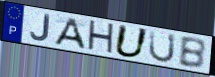A: (53, 17, 87, 51)
B: (177, 36, 207, 70)
H: (86, 19, 116, 57)
J: (29, 13, 51, 43)
U: (112, 23, 151, 59), (147, 30, 177, 64)
